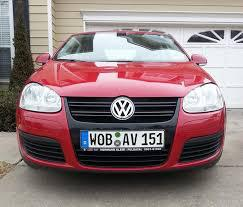1: (141, 133, 149, 146), (156, 132, 163, 145)
5: (149, 132, 156, 145)
A: (122, 133, 130, 146)
B: (105, 133, 113, 146)
L: (230, 30, 243, 41)
O: (97, 133, 105, 146)
V: (130, 132, 138, 146)
W: (89, 133, 97, 146)
